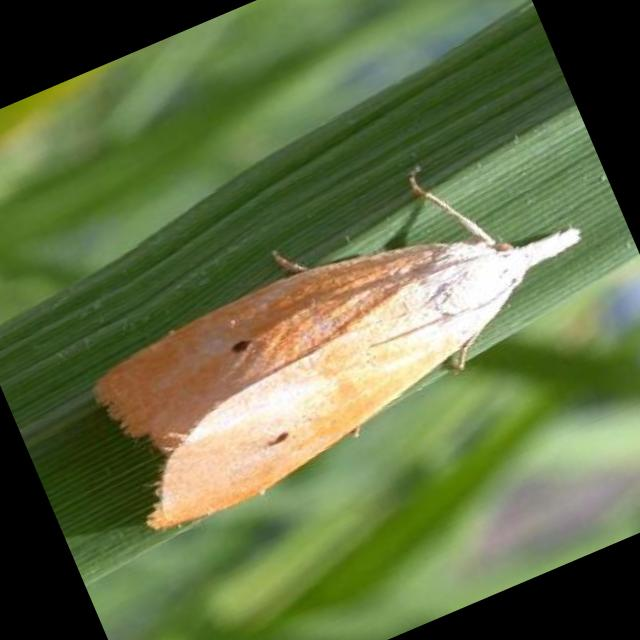stem-borer: (73, 158, 630, 544)
